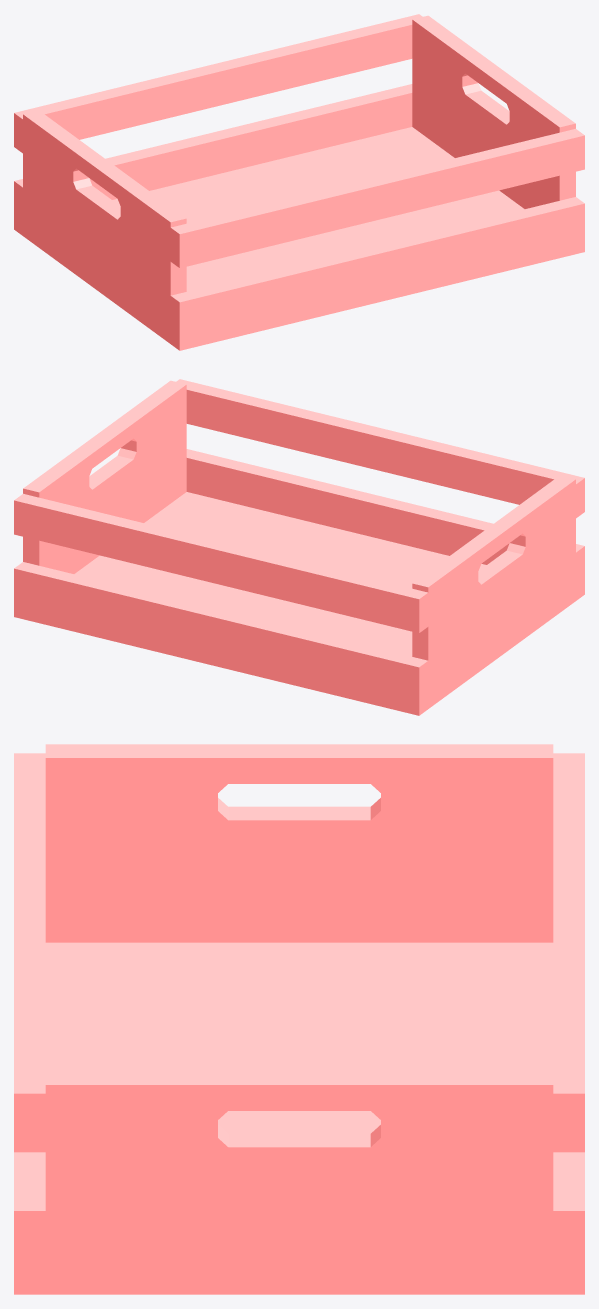
Rendered from Crate.fbx.
3 views of the same model, one above another, from view 1: azimuth 30°, elevation 25°; view 2: azimuth 150°, elevation 25°; view 3: azimuth 270°, elevation 25° (orthographic). The views are drawn at different scales.
Parts seen in each view (by area): view 1: Crate; view 2: Crate; view 3: Crate.
Boxes of the visible parts, left/top/right/bottom form: Crate: left=14, top=14, right=584, bottom=350; Crate: left=14, top=379, right=584, bottom=715; Crate: left=14, top=744, right=584, bottom=1294.
Bounding box in the file's own units: 80.23 × 23.05 × 56.87.
